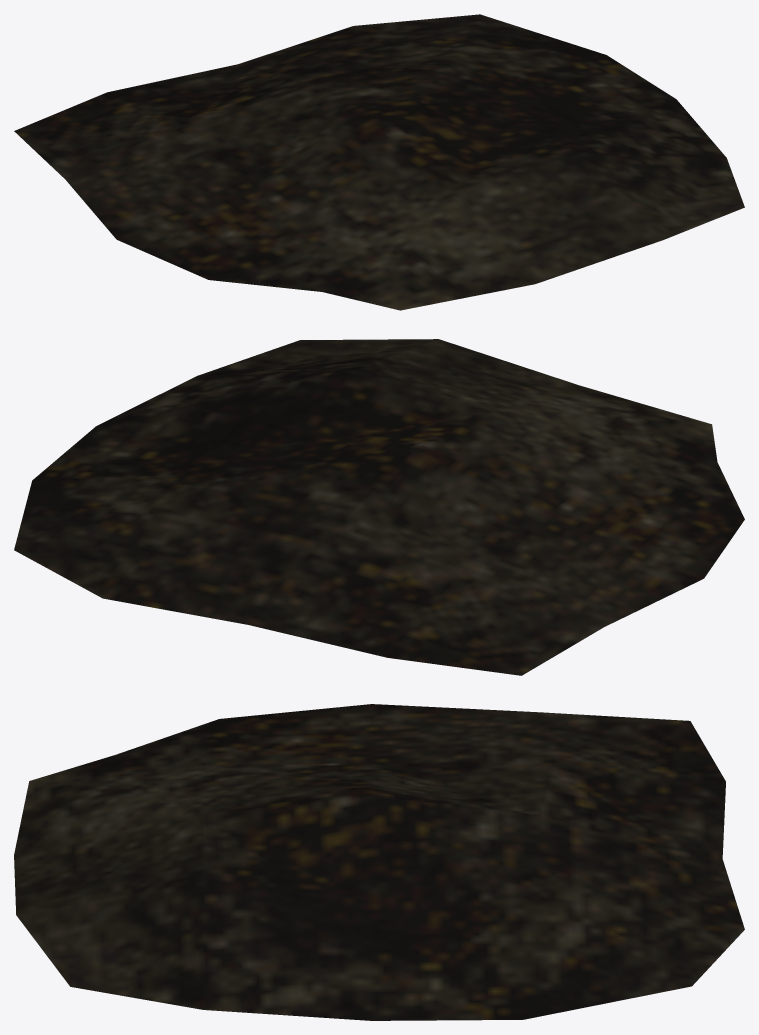
The model's file is SM_EC_Horror_Hay_Patch_7.fbx.
3 views of the same model, one above another, from view 1: azimuth 30°, elevation 25°; view 2: azimuth 150°, elevation 25°; view 3: azimuth 270°, elevation 25° (orthographic). The views are drawn at different scales.
Parts seen in each view (by area): view 1: SM_EC_Horror_Hay_Patch_7; view 2: SM_EC_Horror_Hay_Patch_7; view 3: SM_EC_Horror_Hay_Patch_7.
Part boxes in pixels (box(x1,y1,x2,y2)): SM_EC_Horror_Hay_Patch_7: box(14, 14, 744, 310); SM_EC_Horror_Hay_Patch_7: box(14, 339, 744, 675); SM_EC_Horror_Hay_Patch_7: box(14, 704, 744, 1020).
Bounding box in the file's own units: 1.52 × 1.46 × 0.1355.
